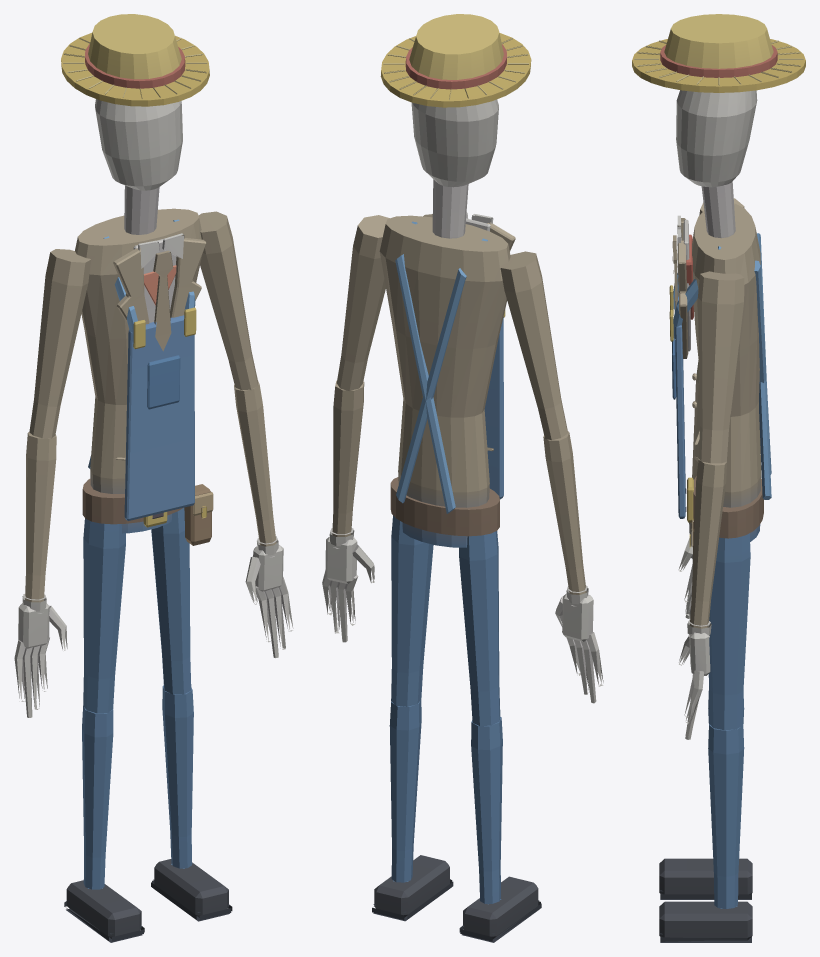
The model's file is SlendermanFarmer.glb.
3 views of the same model, side by side, from view 1: azimuth 30°, elevation 25°; view 2: azimuth 150°, elevation 25°; view 3: azimuth 270°, elevation 25° (orthographic).
Parts seen in each view (by area): view 1: Body, Head, LegR, ArmR, LegL, ArmL; view 2: Body, Head, LegR, LegL, ArmR, ArmL; view 3: Body, Head, LegL, ArmL, LegR, ArmR.
Part boxes in pixels (bbox=[...]): Body: bbox=[75, 185, 213, 545]; Head: bbox=[61, 14, 209, 190]; LegR: bbox=[64, 518, 144, 942]; ArmR: bbox=[14, 249, 90, 717]; LegL: bbox=[151, 508, 232, 921]; ArmL: bbox=[198, 211, 293, 658]; Body: bbox=[379, 179, 515, 547]; Head: bbox=[380, 14, 531, 187]; LegR: bbox=[459, 531, 541, 942]; LegL: bbox=[372, 515, 453, 921]; ArmR: bbox=[500, 251, 603, 703]; ArmL: bbox=[322, 215, 389, 642]; Body: bbox=[669, 182, 771, 558]; Head: bbox=[632, 14, 805, 187]; LegL: bbox=[659, 533, 752, 942]; ArmL: bbox=[679, 271, 744, 739]; LegR: bbox=[659, 686, 752, 899]; ArmR: bbox=[678, 198, 744, 618].
Size of the model in its own units: 2.68 by 8.23 by 1.47.
